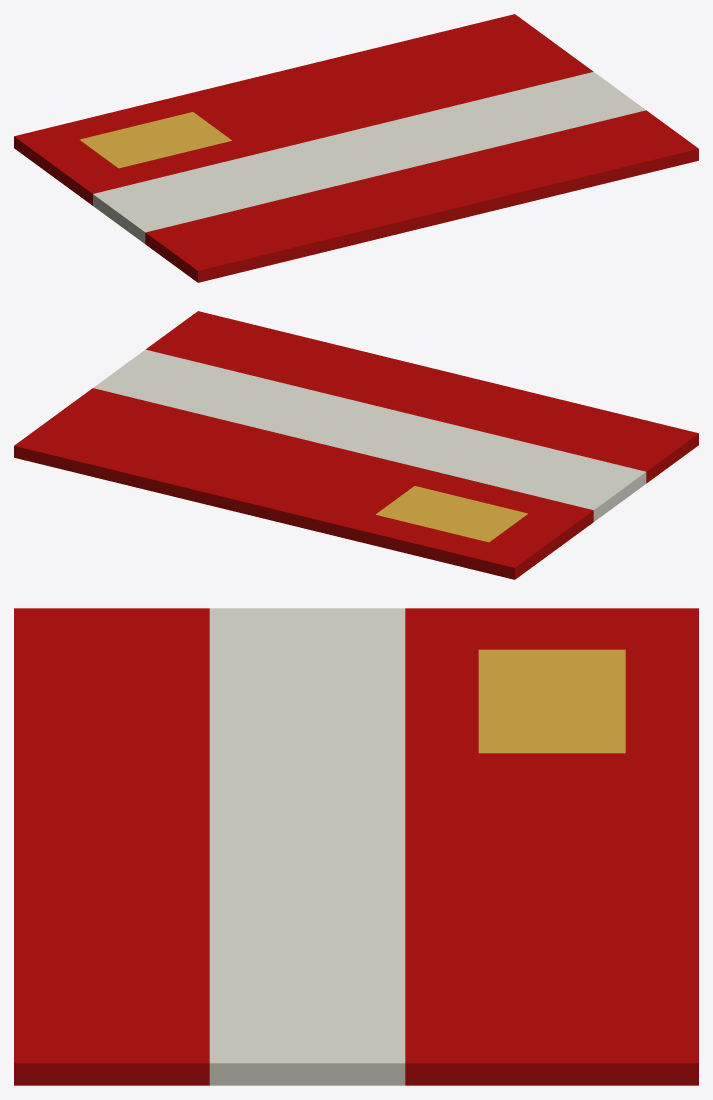
The model's file is gift_card.glb.
3 renders of one model, top to bottom at view 1: azimuth 30°, elevation 25°; view 2: azimuth 150°, elevation 25°; view 3: azimuth 270°, elevation 25°, orthographic. The views are drawn at different scales.
Parts seen in each view (by area): view 1: gift_card:compound; view 2: gift_card:compound; view 3: gift_card:compound.
Part boxes in pixels (left/top/right/bottom): gift_card:compound: left=14, top=14, right=698, bottom=282; gift_card:compound: left=14, top=311, right=698, bottom=579; gift_card:compound: left=14, top=608, right=698, bottom=1085.
Size of the model in its own units: 0.088 by 0.002 by 0.056.
